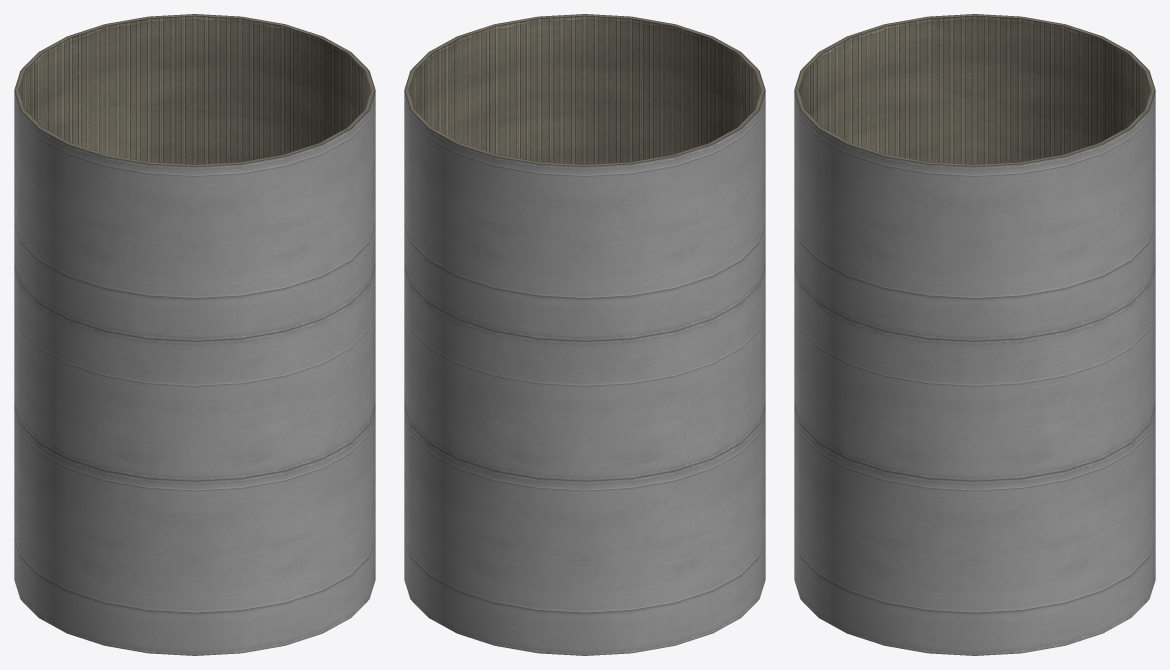
The model's file is nk43_fairing_s0.obj.
3 renders of one model, left to right at view 1: azimuth 30°, elevation 25°; view 2: azimuth 150°, elevation 25°; view 3: azimuth 270°, elevation 25°, orthographic.
Parts seen in each view (by area): view 1: fairing3; view 2: fairing3; view 3: fairing3.
Part boxes in pixels (bbox=[...]): fairing3: bbox=[14, 14, 375, 655]; fairing3: bbox=[404, 14, 765, 655]; fairing3: bbox=[794, 14, 1155, 655].
Bounding box in the file's own units: 1.88 × 2.8 × 1.88.
1 material, 1 textured.
